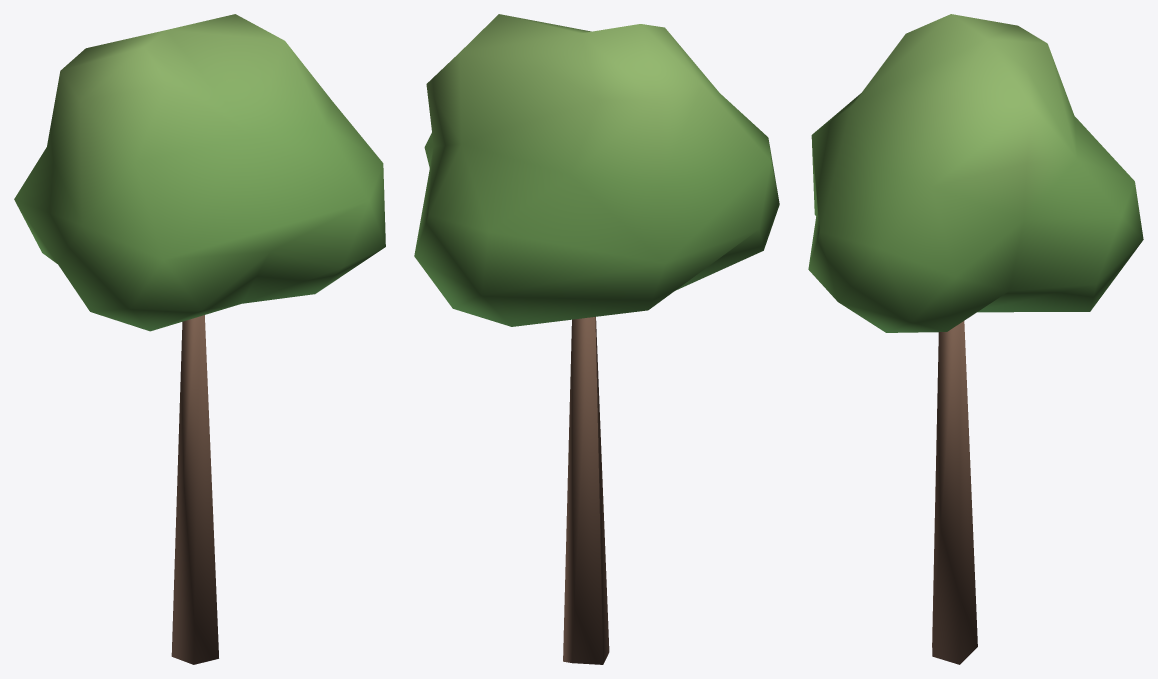
File: env_sky_mtree_c_lite.glb
3 renders of one model, left to right at view 1: azimuth 30°, elevation 25°; view 2: azimuth 150°, elevation 25°; view 3: azimuth 270°, elevation 25°, orthographic. The views are drawn at different scales.
Parts seen in each view (by area): view 1: SM_sky_sky_mtn_vc_x0_z0.005; view 2: SM_sky_sky_mtn_vc_x0_z0.005; view 3: SM_sky_sky_mtn_vc_x0_z0.005.
Part boxes in pixels (<box>): SM_sky_sky_mtn_vc_x0_z0.005: <box>14,14,385,664</box>; SM_sky_sky_mtn_vc_x0_z0.005: <box>414,14,779,664</box>; SM_sky_sky_mtn_vc_x0_z0.005: <box>808,14,1143,664</box>.
Bounding box in the file's own units: 2.07 × 4.03 × 1.99.
